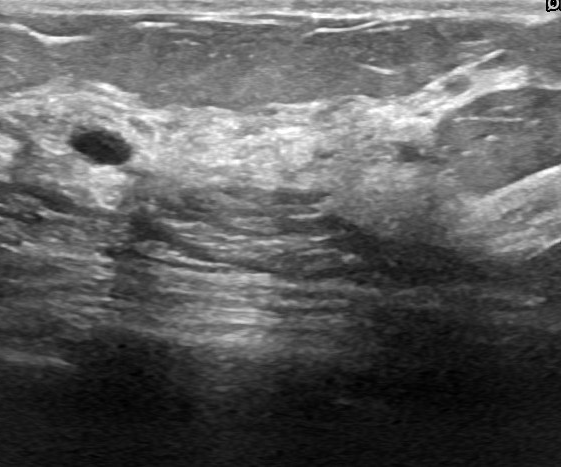Benign: (67, 120, 135, 170)
